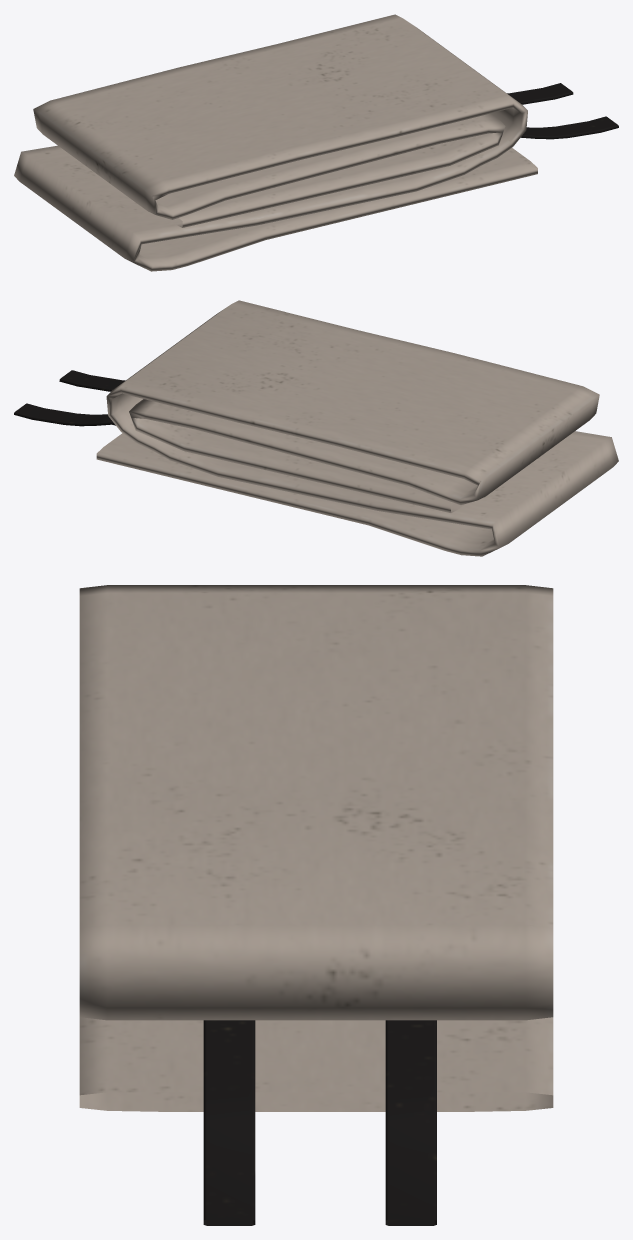
Rendered from Fireproof_Clothb .glb.
3 views of the same model, one above another, from view 1: azimuth 30°, elevation 25°; view 2: azimuth 150°, elevation 25°; view 3: azimuth 270°, elevation 25° (orthographic). The views are drawn at different scales.
Visible parts, largest first — view 1: polySurface3.001; view 2: polySurface3.001; view 3: polySurface3.001.
Boxes of the visible parts, x1,y1,x2,y2 form: polySurface3.001: (14,14,618,271); polySurface3.001: (14,300,618,556); polySurface3.001: (79,585,553,1225).
Bounding box in the file's own units: 0.1726 × 0.028 × 0.0685.
Materials: 1 (1 with a texture image).
